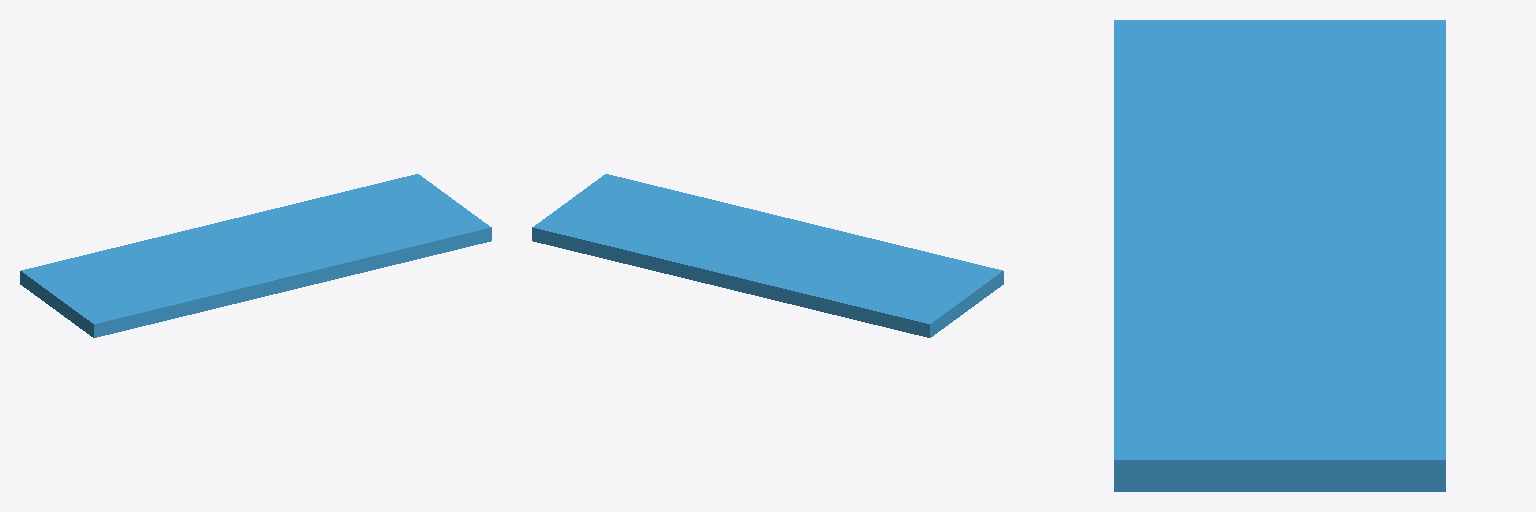
robot.urdf — cylinder_0:
    
    <robot name="cylinder_0">
        <link name="cylinder_0">    
            <fem>
                <origin rpy="0.0 0.0 0.0" xyz="0 0 0" />
                <density value="100" />
                <youngs value="9866"/>
                <poissons value="0.3" />
                <damping value="0.0" />
                <attachDistance value="0.01" />
                <tetmesh filename="[local-path]/sim_data/Custom/Custom_mesh/multi_cylinder_10kPa/cylinder_0.tet" />
                <scale value="0.5"/>
            </fem>
        </link>

        <link name="fix_frame">
            <visual>
                <origin xyz="0.0 0.0 10.076556163575404"/>
                <geometry>
                    <box size="0.15 0.04797820527570322 0.005"/>
                </geometry>
            </visual>
            <collision>
                <origin xyz="0.0 0.0 0.07655616357540479"/>
                <geometry>
                    <box size="0.15 0.04797820527570322 0.005"/>
                </geometry>
            </collision>
            <inertial>
                <mass value="500000"/>
                <inertia ixx="0.05" ixy="0.0" ixz="0.0" iyy="0.05" iyz="0.0" izz="0.05"/>
            </inertial>
        </link>
        
        <joint name = "attach" type = "fixed">
            <origin xyz = "0.0 0.0 0.0" rpy = "0 0 0"/>
            <parent link ="cylinder_0"/>
            <child link = "fix_frame"/>
        </joint>  




    </robot>
    

--- Render facts (derived) ---
3 views of the same robot in one strip: view 1: azimuth 30°, elevation 25°; view 2: azimuth 150°, elevation 25°; view 3: azimuth 270°, elevation 25° (orthographic).
Robot: cylinder_0 — 2 links, 1 joints (1 fixed); root link cylinder_0; default pose: all joints at 0.
Links seen in each view (by area): view 1: fix_frame; view 2: fix_frame; view 3: fix_frame.
Link boxes in pixels (box(x1,y1,x2,y2)): fix_frame: box(20, 174, 491, 337); fix_frame: box(532, 174, 1003, 337); fix_frame: box(1114, 20, 1445, 491).
Size in the robot's own frame: 0.15 by 0.048 by 0.005 metres.
Geometry: primitives only (box / cylinder / sphere), no mesh files.